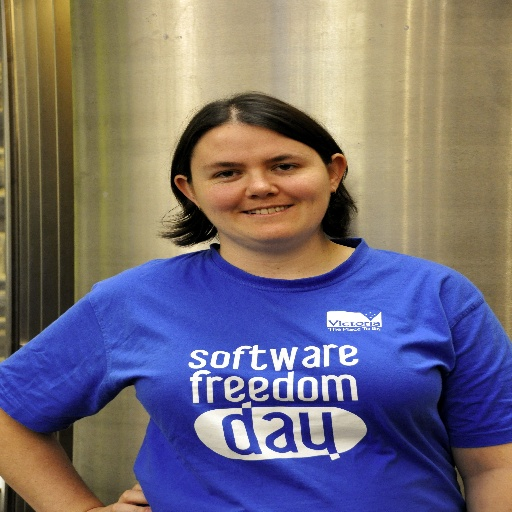hand: (99, 483, 152, 511)
